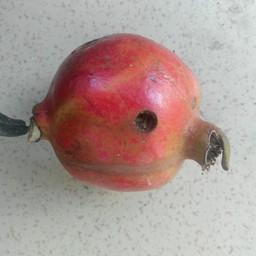Bad_pomegranate: (23, 26, 231, 215)
